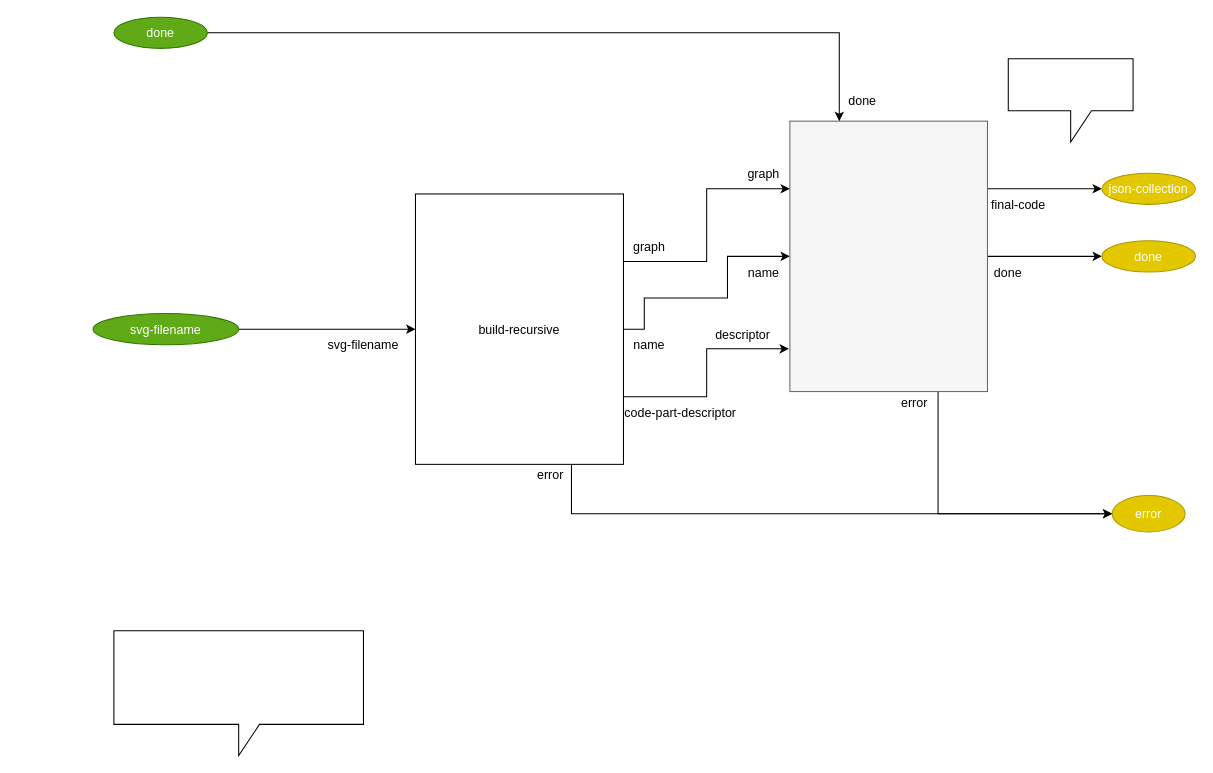
Some shapes in this 1213 by 773 pixel diagram are drawn without their labels. Each missing label, with the centre of its shape:
":name and :graph come in pairs (either :name then :graph or :graph then :name)" belongs at pixel 238 693.
"build-collector" belongs at pixel 888 256.
"leaves appear before graphs" belongs at pixel 1070 100.
